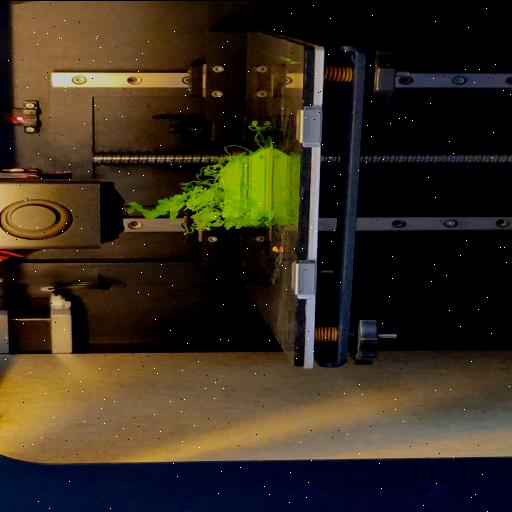spaghetti: (126, 161, 229, 231), (226, 212, 276, 230), (245, 118, 263, 144), (220, 144, 252, 154)
